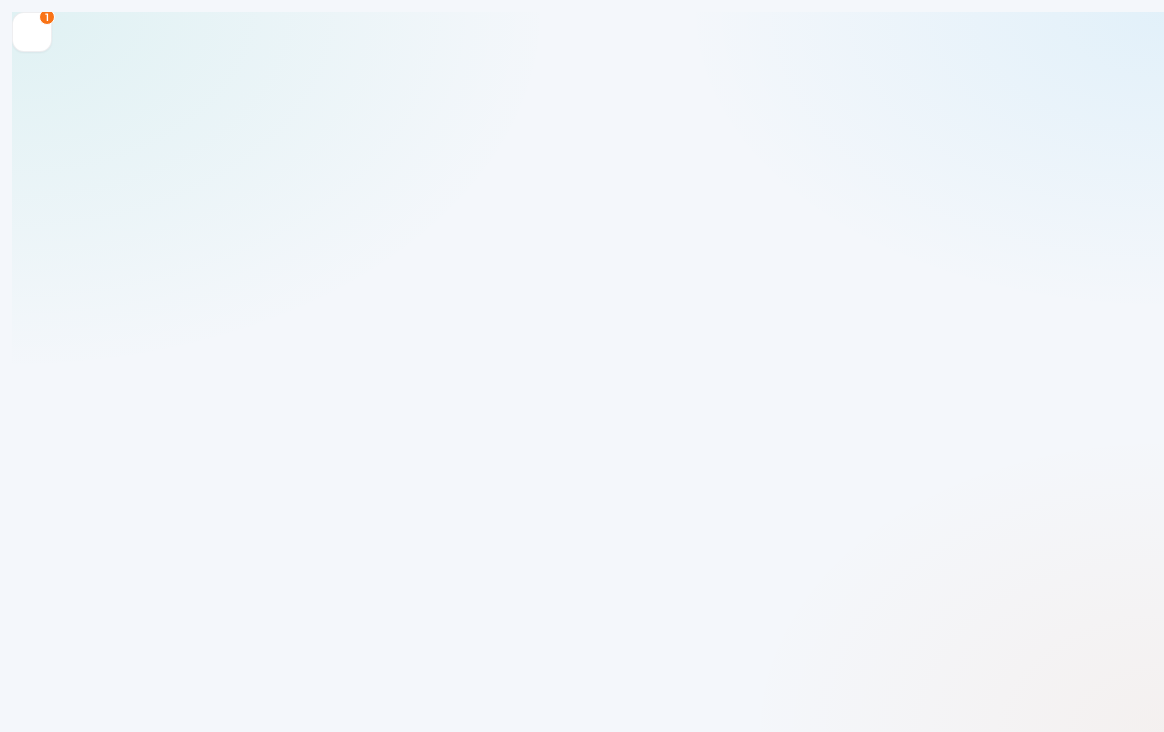
Customer Notifications Feature › NotificationBellPopover Component › renders bell button and displays unread badge count
# Click bell icon to open dropdown
Click the button named "notifications". click: (32, 32)
box: [12, 12, 52, 52]
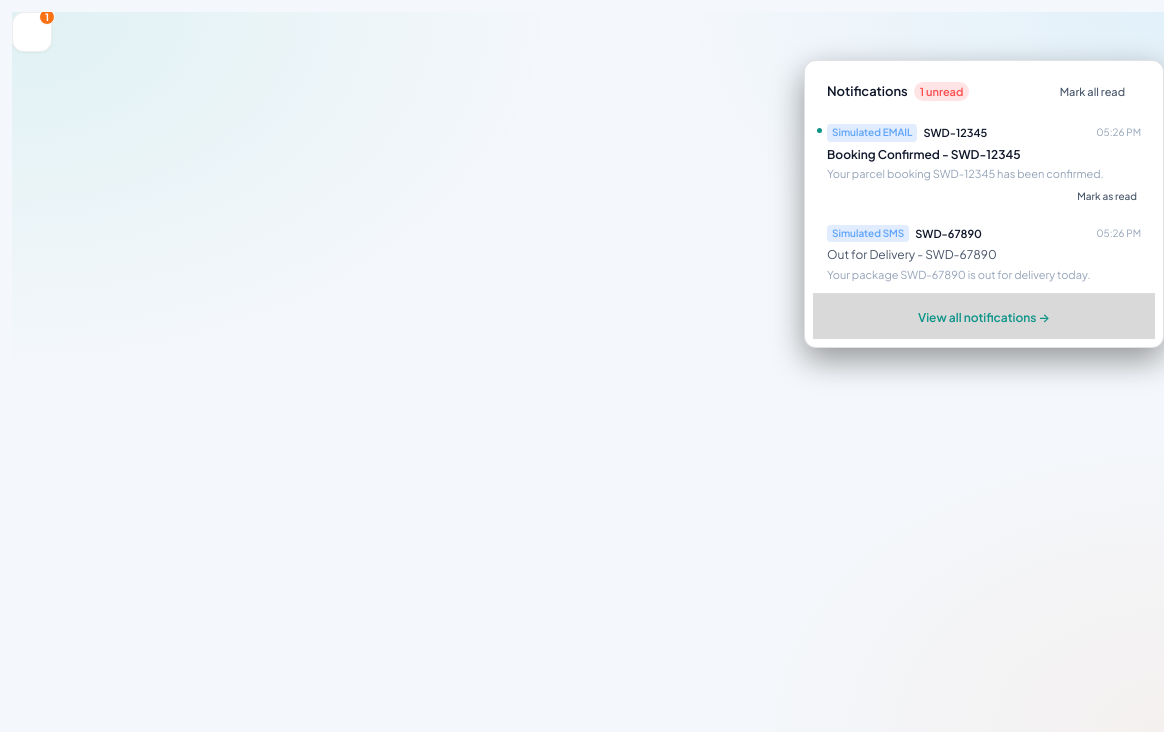
Result: the text "Notifications" is shown at [827, 81, 908, 101]
Result: the text "Booking Confirmed - SWD-12345" is shown at [827, 147, 1021, 162]
Result: the text "Simulated EMAIL" is shown at [827, 124, 917, 142]
